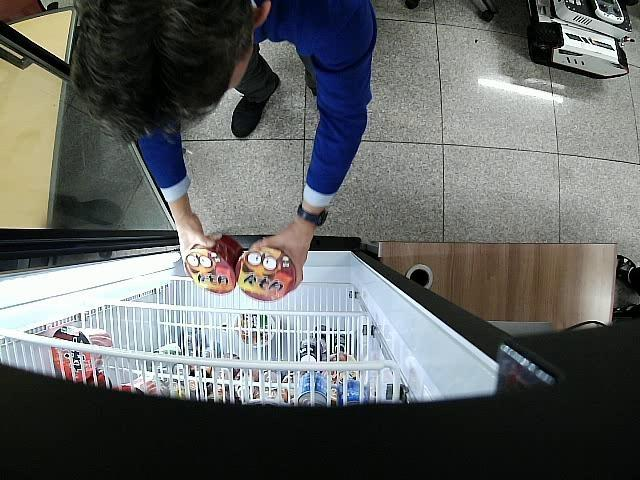05_nuguri_L: (186, 233, 243, 295), (236, 247, 296, 302)
